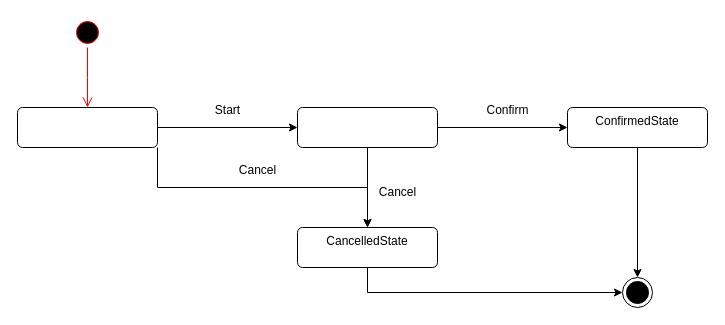
This 725x325 diagram has some shape labels left out. The centre of each missing label's shape, as x and y in pixels:
"InProgressState" goes at [367,127].
"RegisteredState" goes at [87,127].
